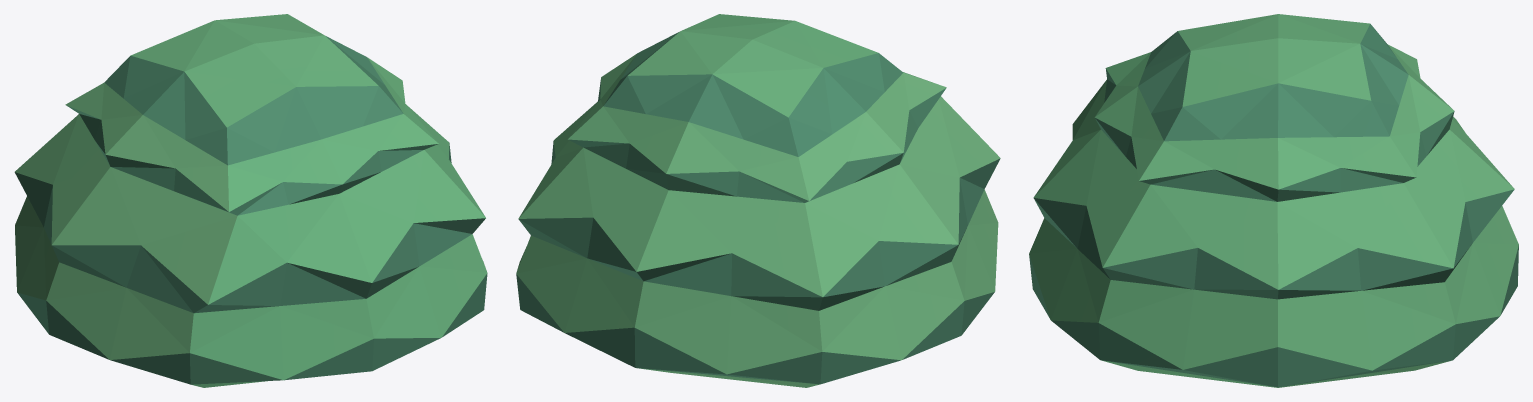
Rendered from Bush_01.fbx.
The picture shows the model from 3 angles, left to right: view 1: azimuth 30°, elevation 25°; view 2: azimuth 150°, elevation 25°; view 3: azimuth 270°, elevation 25°; orthographic projection. The views are drawn at different scales.
Visible parts, largest first — view 1: Bush_01; view 2: Bush_01; view 3: Bush_01.
Part boxes in pixels (left/top/right/bottom): Bush_01: left=14, top=14, right=487, bottom=387; Bush_01: left=516, top=14, right=1000, bottom=387; Bush_01: left=1029, top=14, right=1518, bottom=387.
Size of the model in its own units: 0.8784 by 0.5753 by 0.8806.
